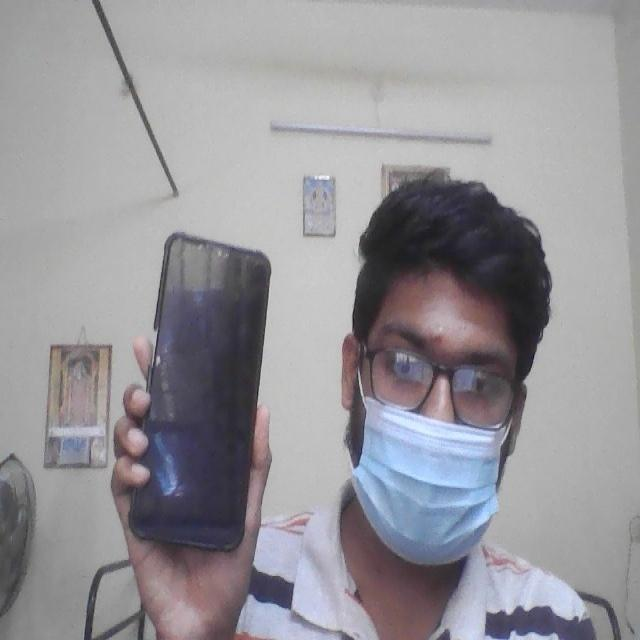Mobile: (124, 225, 279, 554)
